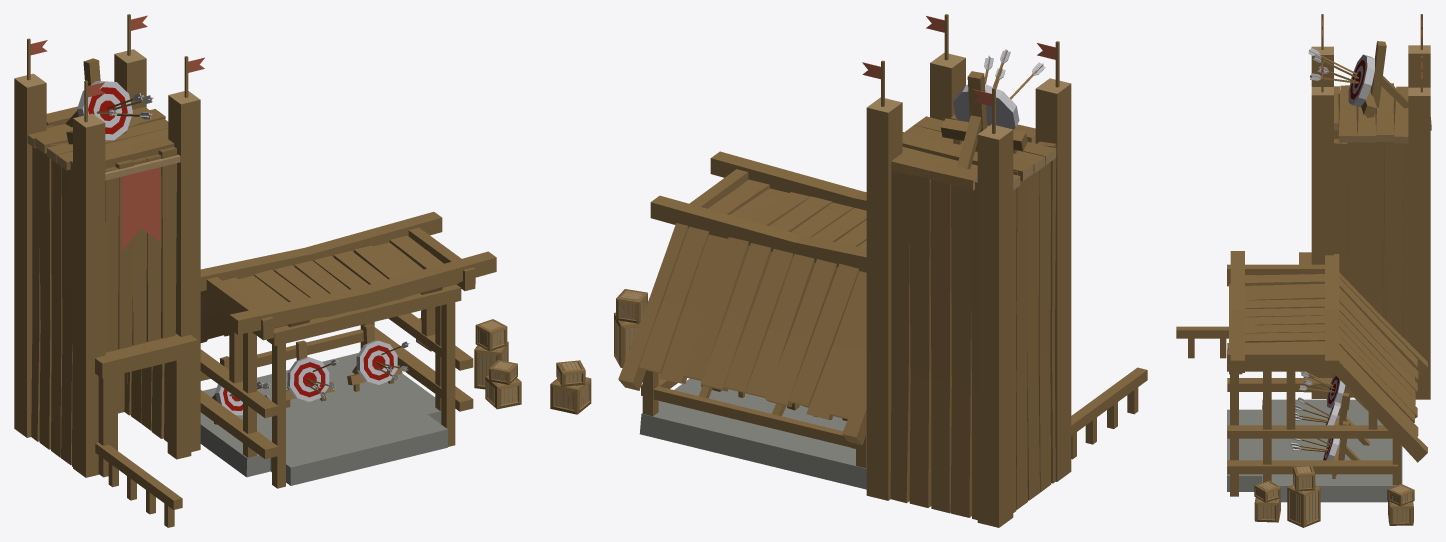
File: Archery_FirstAge_Level2.glb
3 views of the same model, side by side, from view 1: azimuth 30°, elevation 25°; view 2: azimuth 150°, elevation 25°; view 3: azimuth 270°, elevation 25° (orthographic). The views are drawn at different scales.
Parts seen in each view (by area): view 1: Archery_FirstAge_Level2; view 2: Archery_FirstAge_Level2; view 3: Archery_FirstAge_Level2.
Part boxes in pixels (x1,y1,x2,y2): Archery_FirstAge_Level2: [14, 14, 521, 527]; Archery_FirstAge_Level2: [550, 14, 1147, 527]; Archery_FirstAge_Level2: [1176, 14, 1431, 527].
Size of the model in its own units: 1.65 by 1.51 by 1.
Materials: 1 (1 with a texture image).
